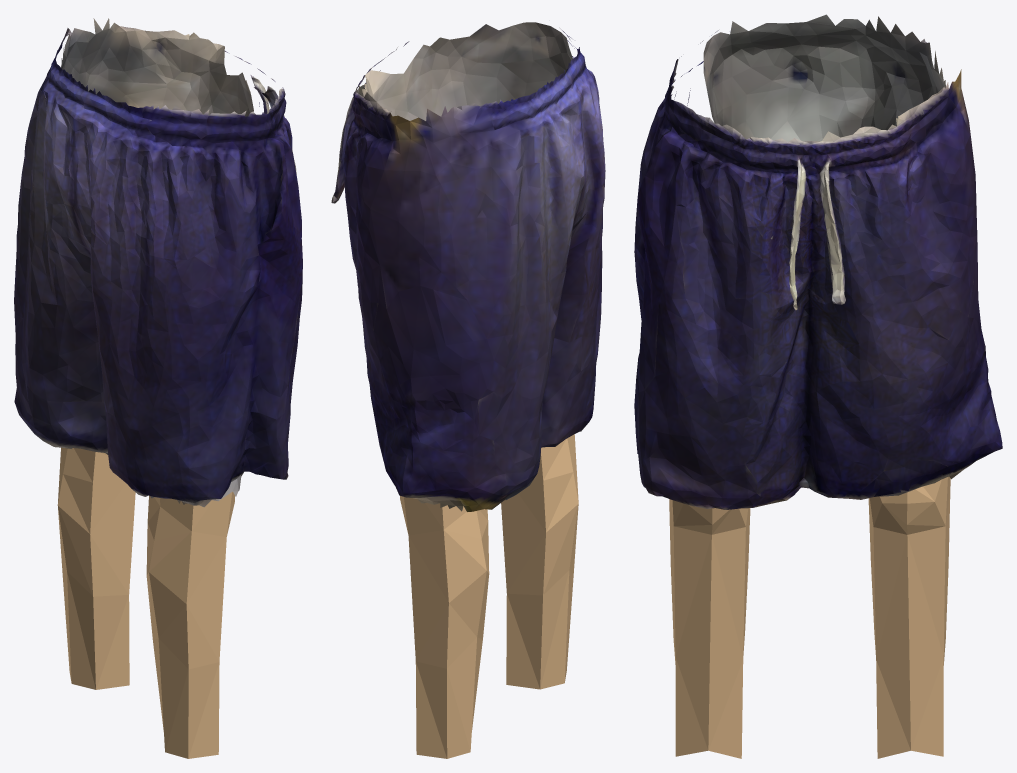
Rendered from Purpleshorts.glb.
The picture shows the model from 3 angles, left to right: view 1: azimuth 30°, elevation 25°; view 2: azimuth 150°, elevation 25°; view 3: azimuth 270°, elevation 25°; orthographic projection. The views are drawn at different scales.
Parts seen in each view (by area): view 1: Legs; view 2: Legs; view 3: Legs.
Part boxes in pixels (x1,y1,x2,y2): Legs: (14, 18, 302, 758); Legs: (331, 22, 605, 758); Legs: (634, 14, 1002, 758).
Size of the model in its own units: 0.4139 by 1.09 by 0.5154.
Materials: 2 (1 with a texture image).
